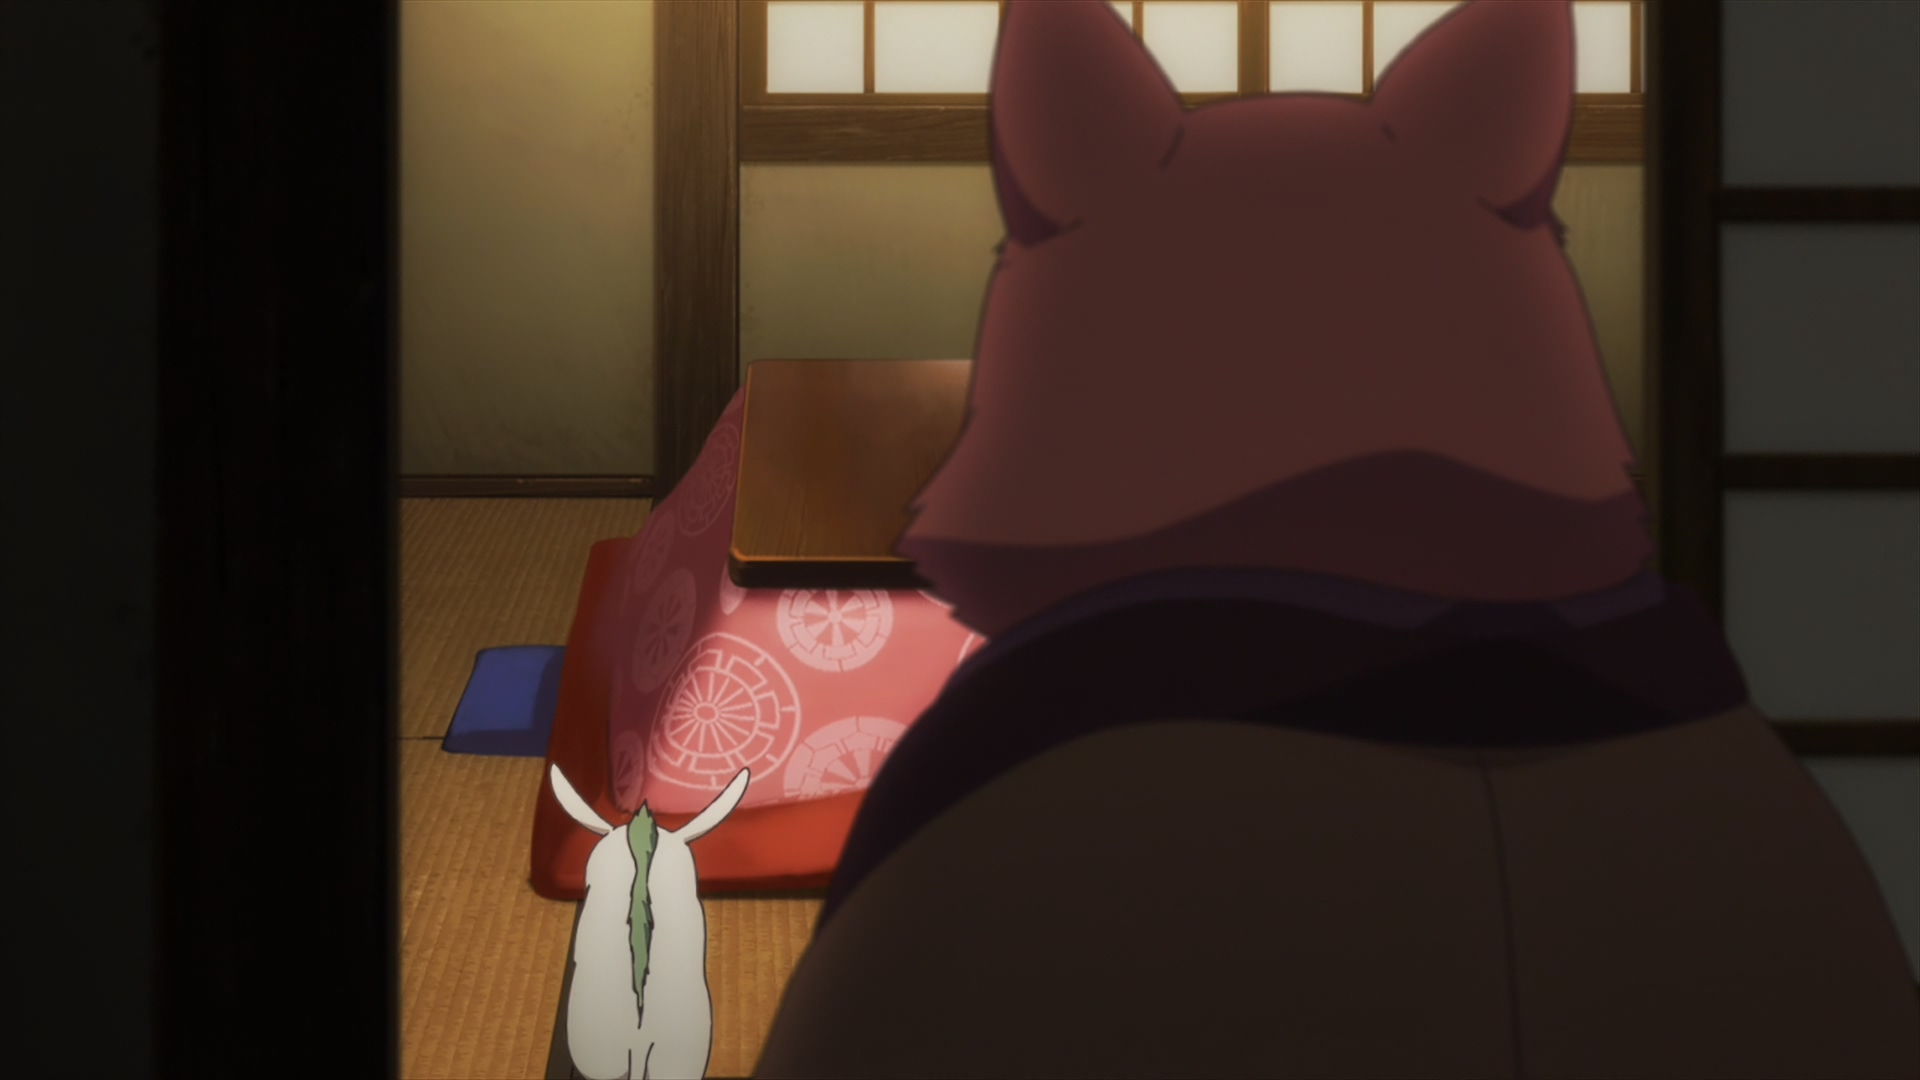椿: (752, 1, 1920, 1080)
瓜之介: (549, 761, 749, 1080)
